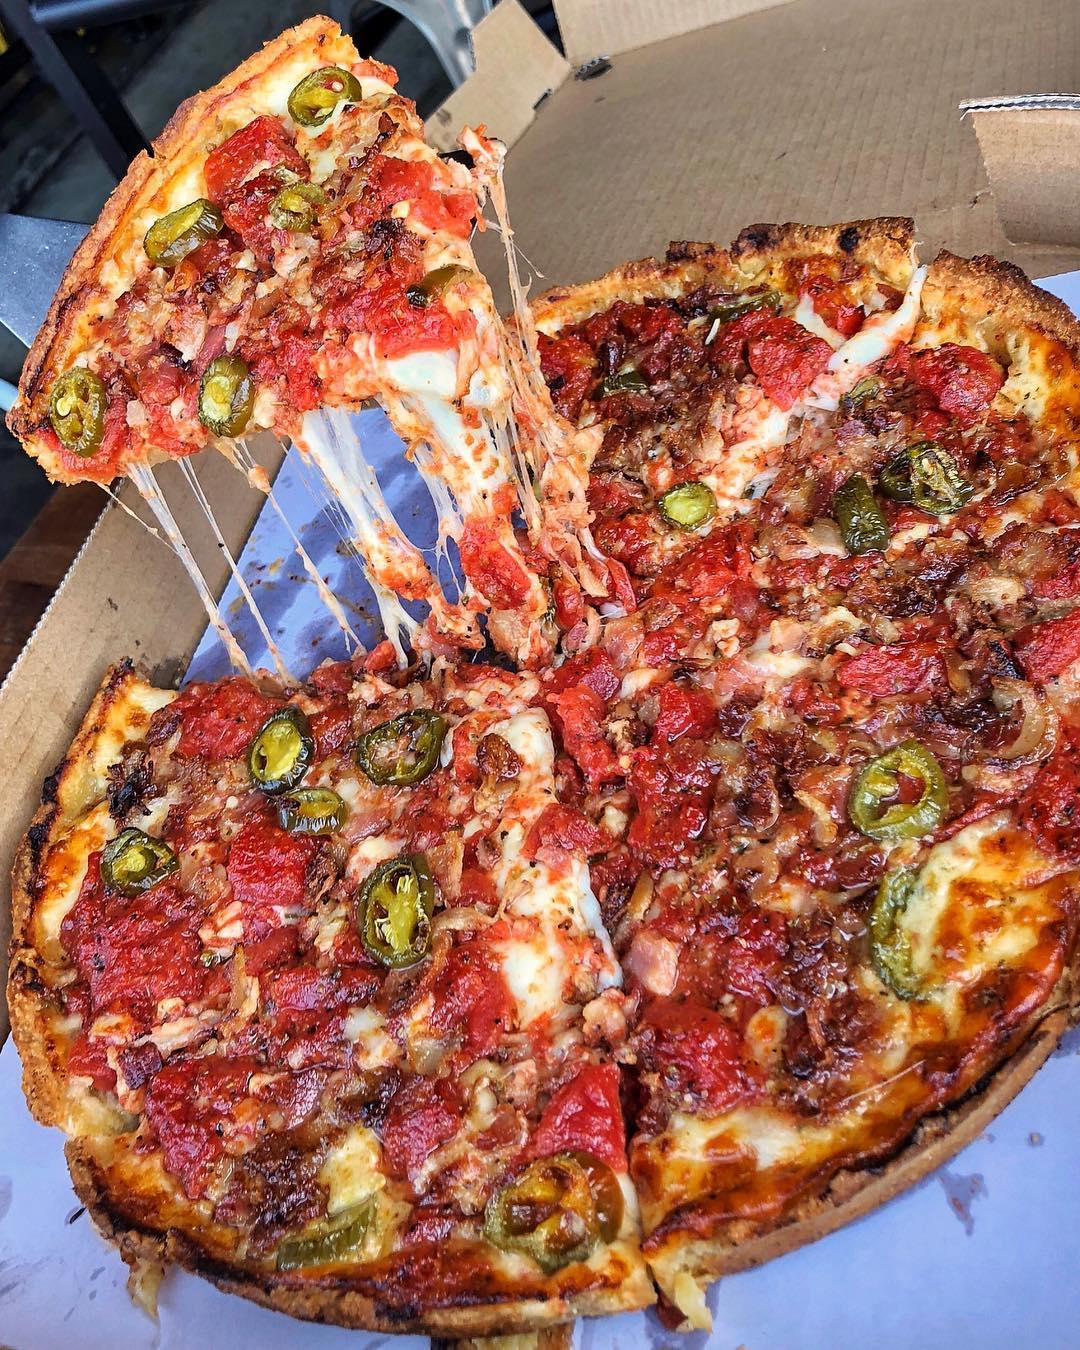Peppers: (490, 1151, 616, 1253), (866, 858, 931, 989), (851, 746, 937, 843), (360, 863, 438, 961), (94, 824, 173, 898), (356, 709, 444, 773), (46, 370, 106, 451), (196, 356, 251, 433), (289, 68, 358, 125), (246, 716, 307, 779), (894, 449, 957, 506), (145, 204, 218, 248), (651, 478, 714, 529), (289, 781, 348, 834), (266, 183, 323, 229), (841, 486, 885, 534)
Pizza: (25, 234, 1080, 1327), (15, 15, 498, 475)
